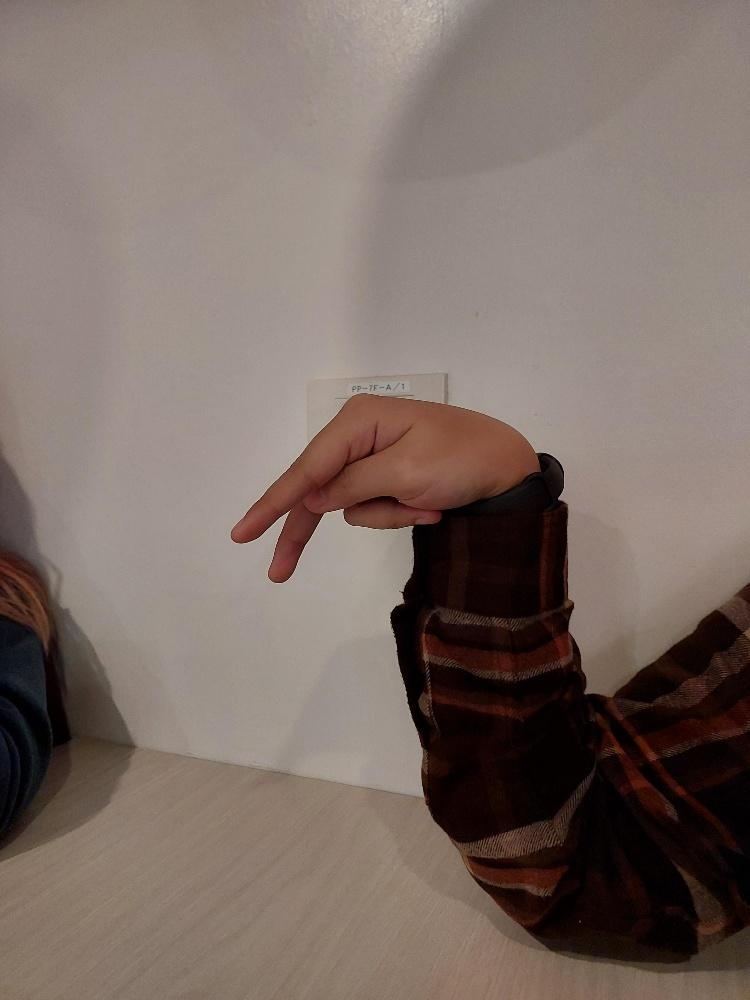p: (224, 384, 546, 585)
